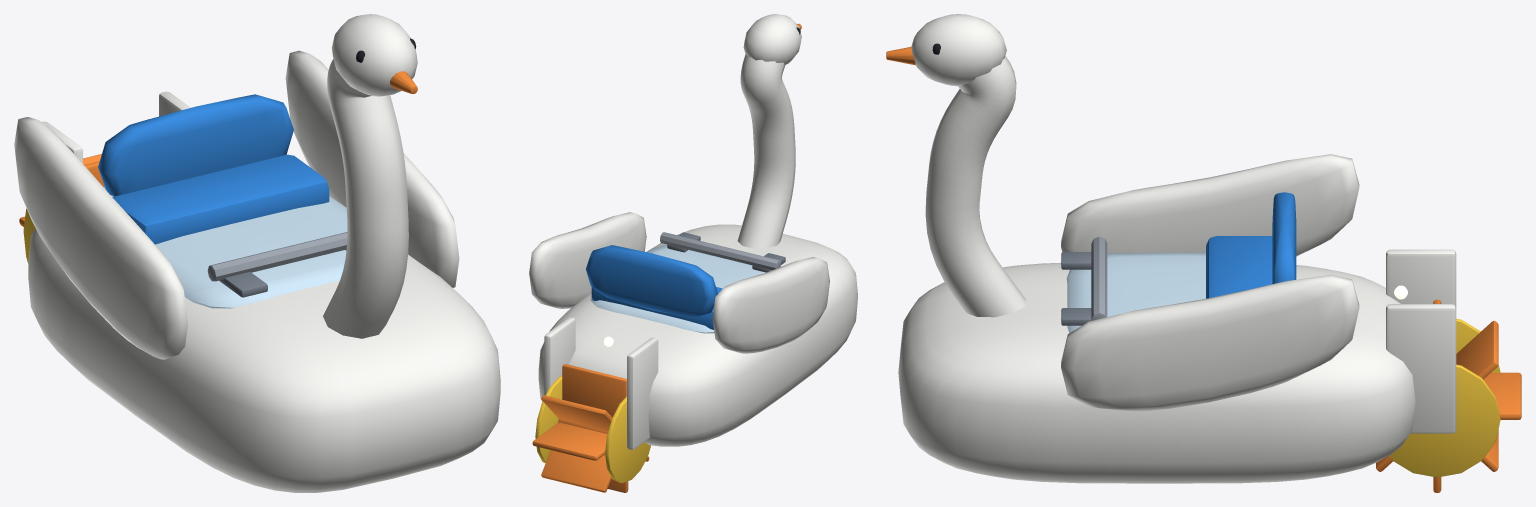
The model's file is pedalinho_cisne.glb.
3 views of the same model, side by side, from view 1: azimuth 30°, elevation 25°; view 2: azimuth 150°, elevation 25°; view 3: azimuth 270°, elevation 25° (orthographic). The views are drawn at different scales.
Parts seen in each view (by area): view 1: pedalinho_cisne, roda_pas; view 2: pedalinho_cisne, roda_pas; view 3: pedalinho_cisne, roda_pas.
Boxes of the visible parts, bbox=[...] form: pedalinho_cisne: bbox=[14, 14, 500, 492]; roda_pas: bbox=[19, 154, 104, 263]; pedalinho_cisne: bbox=[529, 14, 857, 449]; roda_pas: bbox=[532, 364, 650, 492]; pedalinho_cisne: bbox=[886, 14, 1456, 483]; roda_pas: bbox=[1376, 299, 1521, 492].
Bounding box in the file's own units: 1.6 × 2.5 × 3.16.
Materials: 2 (1 with a texture image).
